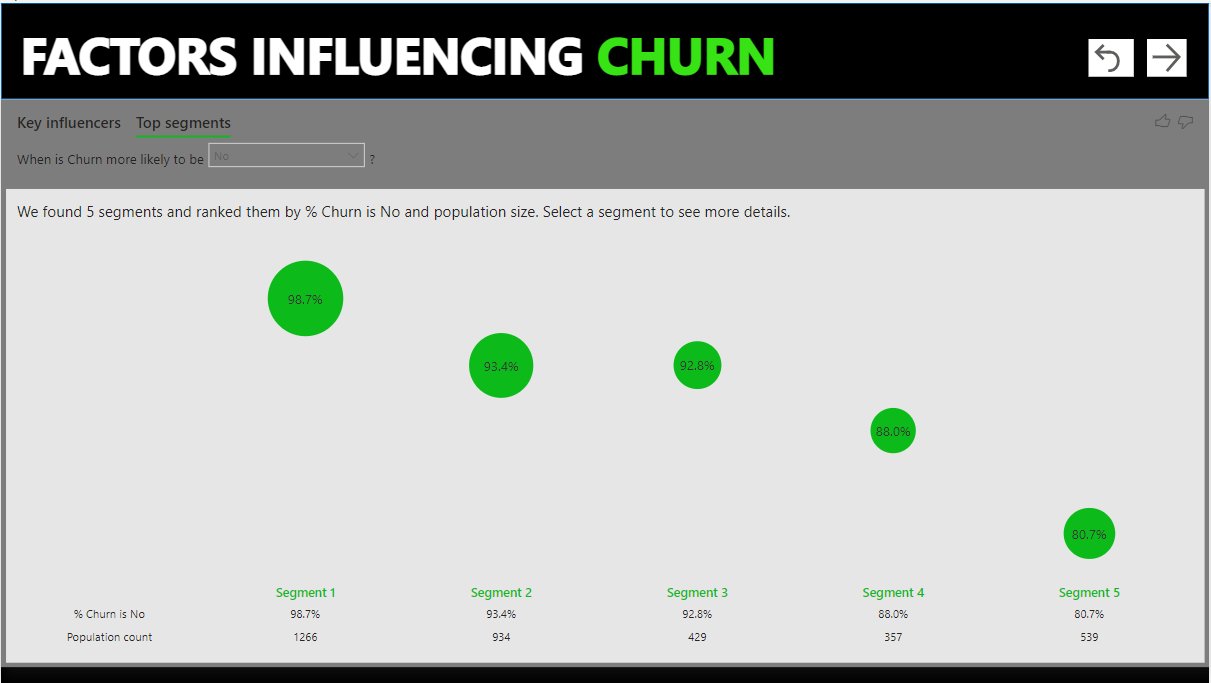

The page's visual inventory and layout, read from the dashboard file:
{"tool":"powerbi","page":{"name":"Churn Factors","canvas":[1280,720],"ordinal":4},"visuals":[{"type":"shape","box":[0,0,1280,102],"z":0},{"type":"textbox","box":[16,12,946,90],"z":1000},{"type":"actionButton","box":[1214,38,42,40],"z":2000},{"type":"actionButton","box":[1152,38,48,40],"z":3000},{"type":"keyDriversVisual","fields":{"Target":["Telco-Churn-Analysis.Churn"],"ExplainBy":["Telco-Churn-Analysis.Contract","Telco-Churn-Analysis.Dependents","Telco-Churn-Analysis.DeviceProtection","Telco-Churn-Analysis.gender","Telco-Churn-Analysis.InternetService","Sum(Telco-Churn-Analysis.MonthlyCharges)","Telco-Churn-Analysis.MultipleLines","Telco-Churn-Analysis.OnlineBackup","Telco-Churn-Analysis.OnlineSecurity","Telco-Churn-Analysis.PaperlessBilling","Telco-Churn-Analysis.Partner","Telco-Churn-Analysis.PaymentMethod"]},"box":[0,102,1280,602],"z":4000}]}

Visuals, with their boxes in screenshot pixels (x1, y1, x2, y2):
shape: l=3, t=0, r=1197, b=95
textbox: l=18, t=11, r=901, b=95
actionButton: l=1136, t=35, r=1175, b=73
actionButton: l=1078, t=35, r=1123, b=73
keyDriversVisual - Telco-Churn-Analysis.Churn x Telco-Churn-Analysis.Contract: l=3, t=95, r=1197, b=657
